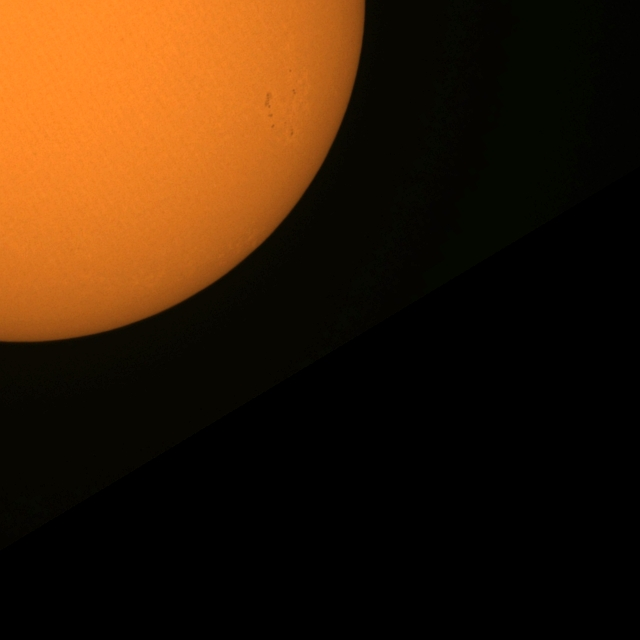sunspot: (264, 90, 274, 116), (289, 126, 295, 138), (270, 123, 276, 131), (291, 88, 297, 95), (288, 68, 293, 74)
